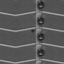dust: (31, 28, 35, 32)
